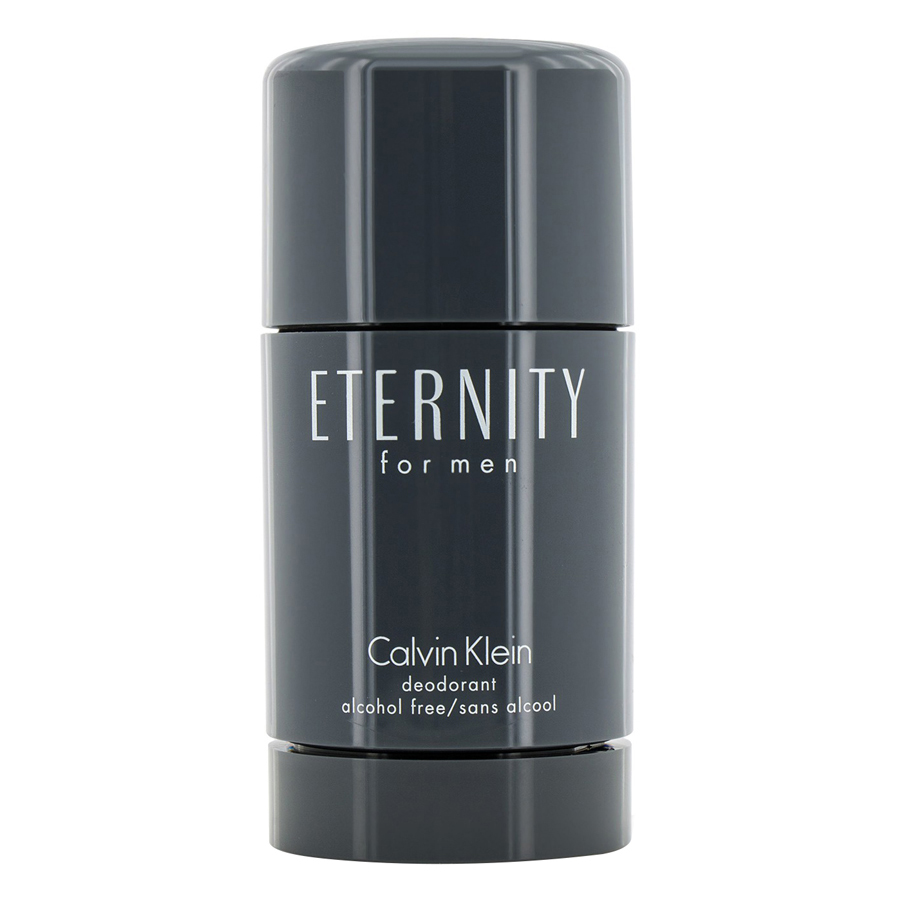Calvin Klein: (360, 624, 538, 673)
